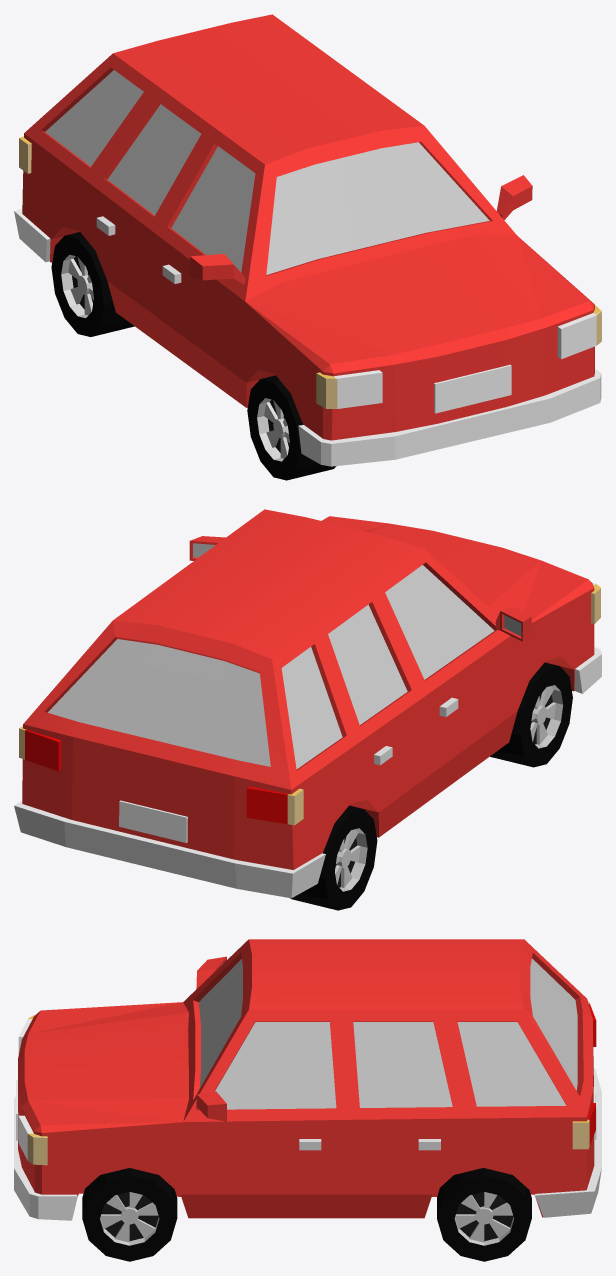
File: Car-03-B.fbx
3 views of the same model, one above another, from view 1: azimuth 30°, elevation 25°; view 2: azimuth 150°, elevation 25°; view 3: azimuth 270°, elevation 25° (orthographic). The views are drawn at different scales.
Parts seen in each view (by area): view 1: Car-03, BR, FR, High-Beam, Light-Right; view 2: Car-03, FR, BR, Break-Light, Light-Right; view 3: Car-03, FL, BL, Light-Left, High-Beam.
Part boxes in pixels (x1,y1,x2,y2): Car-03: (14, 14, 601, 466); BR: (51, 232, 134, 336); FR: (247, 375, 336, 480); High-Beam: (334, 313, 596, 408); Light-Right: (19, 136, 337, 408); Car-03: (14, 509, 601, 898); FR: (490, 662, 572, 767); BR: (290, 805, 377, 910); Break-Light: (25, 730, 287, 824); Light-Right: (287, 584, 600, 825); Car-03: (14, 939, 601, 1220); FL: (82, 1168, 177, 1261); BL: (437, 1168, 531, 1261); Light-Left: (27, 1120, 589, 1165); High-Beam: (18, 1019, 33, 1160).
Size of the model in its own units: 2.45 by 1.79 by 4.14.
